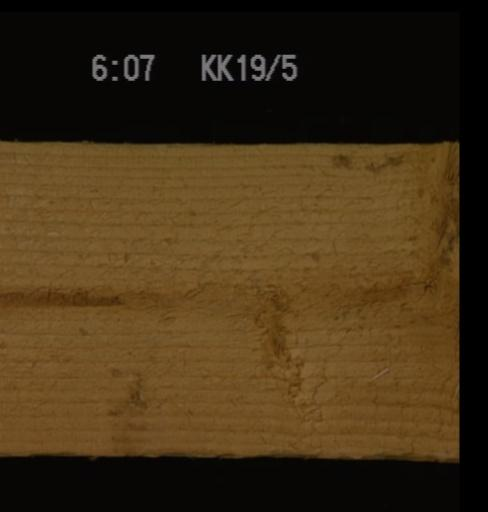small_knot: (252, 279, 293, 317)
